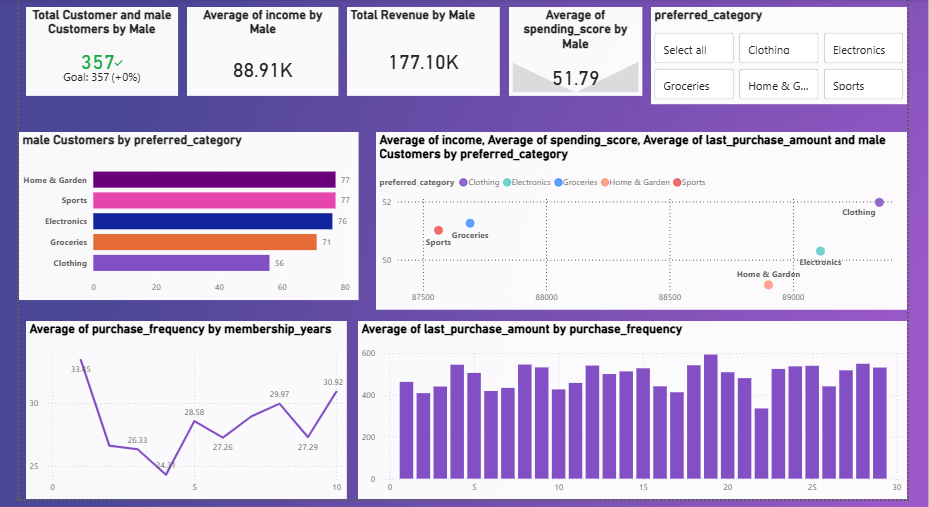

What the dashboard file says about the page in this screenshot:
{"tool":"powerbi","page":{"name":"Male","canvas":[1280,720],"ordinal":1},"visuals":[{"type":"kpi","fields":{"Indicator":["CountNonNull(customer_segmentation_data.id)"],"TrendLine":["customer_segmentation_data.gender"],"Goal":["customer_segmentation_data.male Customers"]},"box":[10.1,11.8,218.7,127.8],"z":0},{"type":"kpi","fields":{"Indicator":["Avg(customer_segmentation_data.income)"],"TrendLine":["customer_segmentation_data.gender"]},"box":[241.9,11.8,218.4,127.7],"z":1000},{"type":"kpi","fields":{"Indicator":["Sum(customer_segmentation_data.last_purchase_amount)"],"TrendLine":["customer_segmentation_data.gender"]},"box":[472,11.8,220.1,127.7],"z":2000},{"type":"kpi","fields":{"Indicator":["Avg(customer_segmentation_data.spending_score)"],"TrendLine":["customer_segmentation_data.gender"]},"box":[705.6,11.5,191.5,128.2],"z":3000},{"type":"lineChart","fields":{"Category":["customer_segmentation_data.membership_years"],"Y":["Avg(customer_segmentation_data.purchase_frequency)"]},"box":[0,463.7,461.9,257],"z":4000},{"type":"clusteredColumnChart","fields":{"Category":["customer_segmentation_data.purchase_frequency"],"Y":["Avg(customer_segmentation_data.last_purchase_amount)"]},"box":[488.8,463.6,791.2,257],"z":5000},{"type":"barChart","fields":{"Category":["customer_segmentation_data.preferred_category"],"Y":["customer_segmentation_data.male Customers"]},"box":[0,191.5,488.8,241.9],"z":6000},{"type":"scatterChart","fields":{"X":["Avg(customer_segmentation_data.income)"],"Y":["Avg(customer_segmentation_data.spending_score)"],"Series":["customer_segmentation_data.preferred_category"],"Size":["Avg(customer_segmentation_data.last_purchase_amount)"]},"box":[514.1,191.5,764.6,256.3],"z":7000},{"type":"advancedSlicerVisual","fields":{"Values":["customer_segmentation_data.preferred_category"]},"box":[910.4,11.8,370.1,139.7],"z":8000}]}

Visuals, with their boxes in screenshot pixels (x1, y1, x2, y2):
kpi - CountNonNull(customer_segmentation_data.id) x customer_segmentation_data.gender: 22 6 174 95
kpi - Avg(customer_segmentation_data.income) x customer_segmentation_data.gender: 183 6 335 95
kpi - Sum(customer_segmentation_data.last_purchase_amount) x customer_segmentation_data.gender: 343 6 496 95
kpi - Avg(customer_segmentation_data.spending_score) x customer_segmentation_data.gender: 506 6 639 95
lineChart - customer_segmentation_data.membership_years x Avg(customer_segmentation_data.purchase_frequency): 15 320 336 499
clusteredColumnChart - customer_segmentation_data.purchase_frequency x Avg(customer_segmentation_data.last_purchase_amount): 355 320 905 499
barChart - customer_segmentation_data.preferred_category x customer_segmentation_data.male Customers: 15 131 355 299
scatterChart - Avg(customer_segmentation_data.income) x Avg(customer_segmentation_data.spending_score): 372 131 904 309
advancedSlicerVisual - customer_segmentation_data.preferred_category: 648 6 906 103
